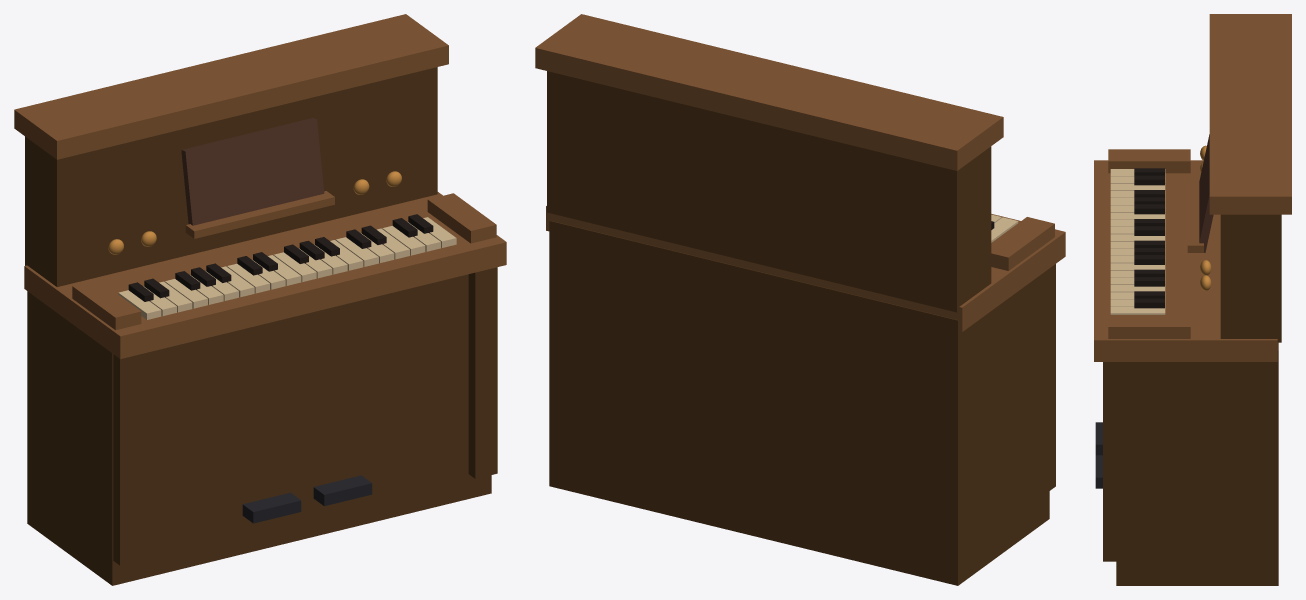
Rendered from mia-organ.glb.
3 views of the same model, side by side, from view 1: azimuth 30°, elevation 25°; view 2: azimuth 150°, elevation 25°; view 3: azimuth 270°, elevation 25° (orthographic). The views are drawn at different scales.
Visible parts, largest first — view 1: Body_wood, Body_oak, Body_glaze, Body_ivory, Body_black, Body_iron, Body_brass; view 2: Body_wood, Body_oak; view 3: Body_wood, Body_oak, Body_ivory, Body_black, Body_glaze, Body_iron, Body_brass.
Boxes of the visible parts, bbox=[...] form: Body_wood: bbox=[25, 67, 497, 585]; Body_oak: bbox=[14, 14, 506, 358]; Body_glaze: bbox=[181, 118, 324, 225]; Body_ivory: bbox=[118, 217, 456, 319]; Body_black: bbox=[128, 214, 433, 301]; Body_iron: bbox=[242, 475, 372, 523]; Body_brass: bbox=[108, 171, 401, 254]; Body_wood: bbox=[547, 71, 1055, 585]; Body_oak: bbox=[535, 14, 1065, 331]; Body_wood: bbox=[1103, 214, 1281, 585]; Body_oak: bbox=[1094, 14, 1291, 361]; Body_ivory: bbox=[1110, 169, 1165, 314]; Body_black: bbox=[1134, 168, 1164, 308]; Body_glaze: bbox=[1199, 134, 1213, 252]; Body_iron: bbox=[1095, 422, 1102, 488]; Body_brass: bbox=[1200, 145, 1211, 290].
Bounding box in the file's own units: 1.44 × 1.44 × 0.658.
